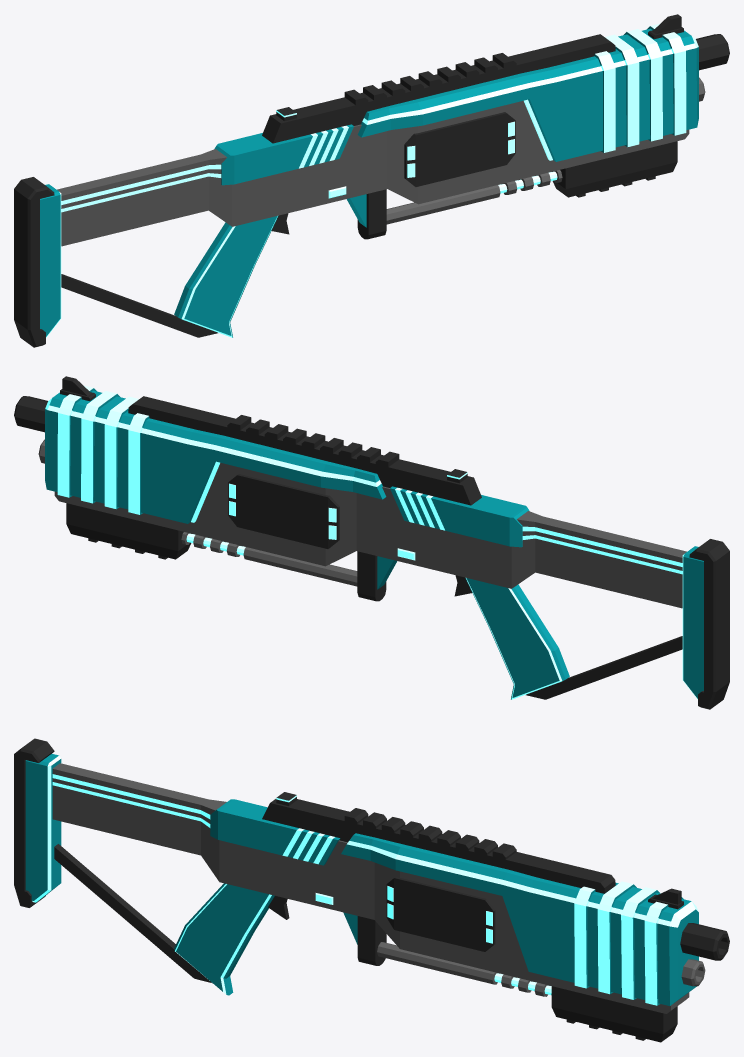
File: pulse_gun.glb
3 views of the same model, one above another, from view 1: azimuth 30°, elevation 25°; view 2: azimuth 150°, elevation 25°; view 3: azimuth 330°, elevation 25° (orthographic).
Parts seen in each view (by area): view 1: Cube_3, Cube.001_4, Cube.003_6, Cube.007_10, Cube.002_5, Cube.004_7, Cube.006_9, Cube.010_13, Cube.005_8, Cube.011_14, Cube.008_11, Cube.009_12 (+1 smaller); view 2: Cube_3, Cube.001_4, Cube.003_6, Cube.007_10, Cube.002_5, Cube.004_7, Cube.006_9, Cube.010_13, Cube.005_8, Cube.011_14, Cube.008_11, Cube.009_12 (+1 smaller); view 3: Cube_3, Cube.001_4, Cube.003_6, Cube.007_10, Cube.002_5, Cube.004_7, Cube.005_8, Cube.010_13, Cube.008_11, Cube.006_9, Cube.011_14, Cube.015_18 (+2 smaller).
Boxes of the visible parts, bbox=[...] form: Cube_3: bbox=[57, 100, 689, 246]; Cube.001_4: bbox=[357, 23, 698, 161]; Cube.003_6: bbox=[262, 34, 615, 143]; Cube.007_10: bbox=[174, 215, 278, 337]; Cube.002_5: bbox=[404, 112, 515, 186]; Cube.004_7: bbox=[214, 124, 353, 185]; Cube.006_9: bbox=[14, 177, 54, 347]; Cube.010_13: bbox=[552, 141, 677, 197]; Cube.005_8: bbox=[40, 184, 61, 337]; Cube.011_14: bbox=[386, 170, 562, 224]; Cube.008_11: bbox=[61, 274, 217, 337]; Cube.009_12: bbox=[357, 189, 386, 239]; Cube_3: bbox=[54, 462, 686, 608]; Cube.001_4: bbox=[45, 385, 386, 523]; Cube.003_6: bbox=[128, 396, 481, 505]; Cube.007_10: bbox=[465, 577, 569, 699]; Cube.002_5: bbox=[228, 474, 339, 548]; Cube.004_7: bbox=[390, 486, 529, 547]; Cube.006_9: bbox=[689, 539, 729, 709]; Cube.010_13: bbox=[66, 503, 191, 559]; Cube.005_8: bbox=[682, 546, 703, 699]; Cube.011_14: bbox=[181, 532, 357, 586]; Cube.008_11: bbox=[526, 636, 682, 699]; Cube.009_12: bbox=[357, 551, 386, 601]; Cube_3: bbox=[52, 763, 689, 1013]; Cube.001_4: bbox=[341, 833, 698, 1005]; Cube.003_6: bbox=[262, 792, 615, 893]; Cube.007_10: bbox=[174, 883, 274, 995]; Cube.002_5: bbox=[386, 876, 495, 951]; Cube.004_7: bbox=[210, 799, 340, 865]; Cube.005_8: bbox=[25, 754, 61, 902]; Cube.010_13: bbox=[551, 986, 677, 1042]; Cube.008_11: bbox=[54, 844, 212, 983]; Cube.006_9: bbox=[14, 738, 54, 907]; Cube.011_14: bbox=[377, 942, 551, 996]; Cube.015_18: bbox=[680, 923, 729, 960].
Size of the model in its own units: 5.21 by 1.5 by 0.3832.
